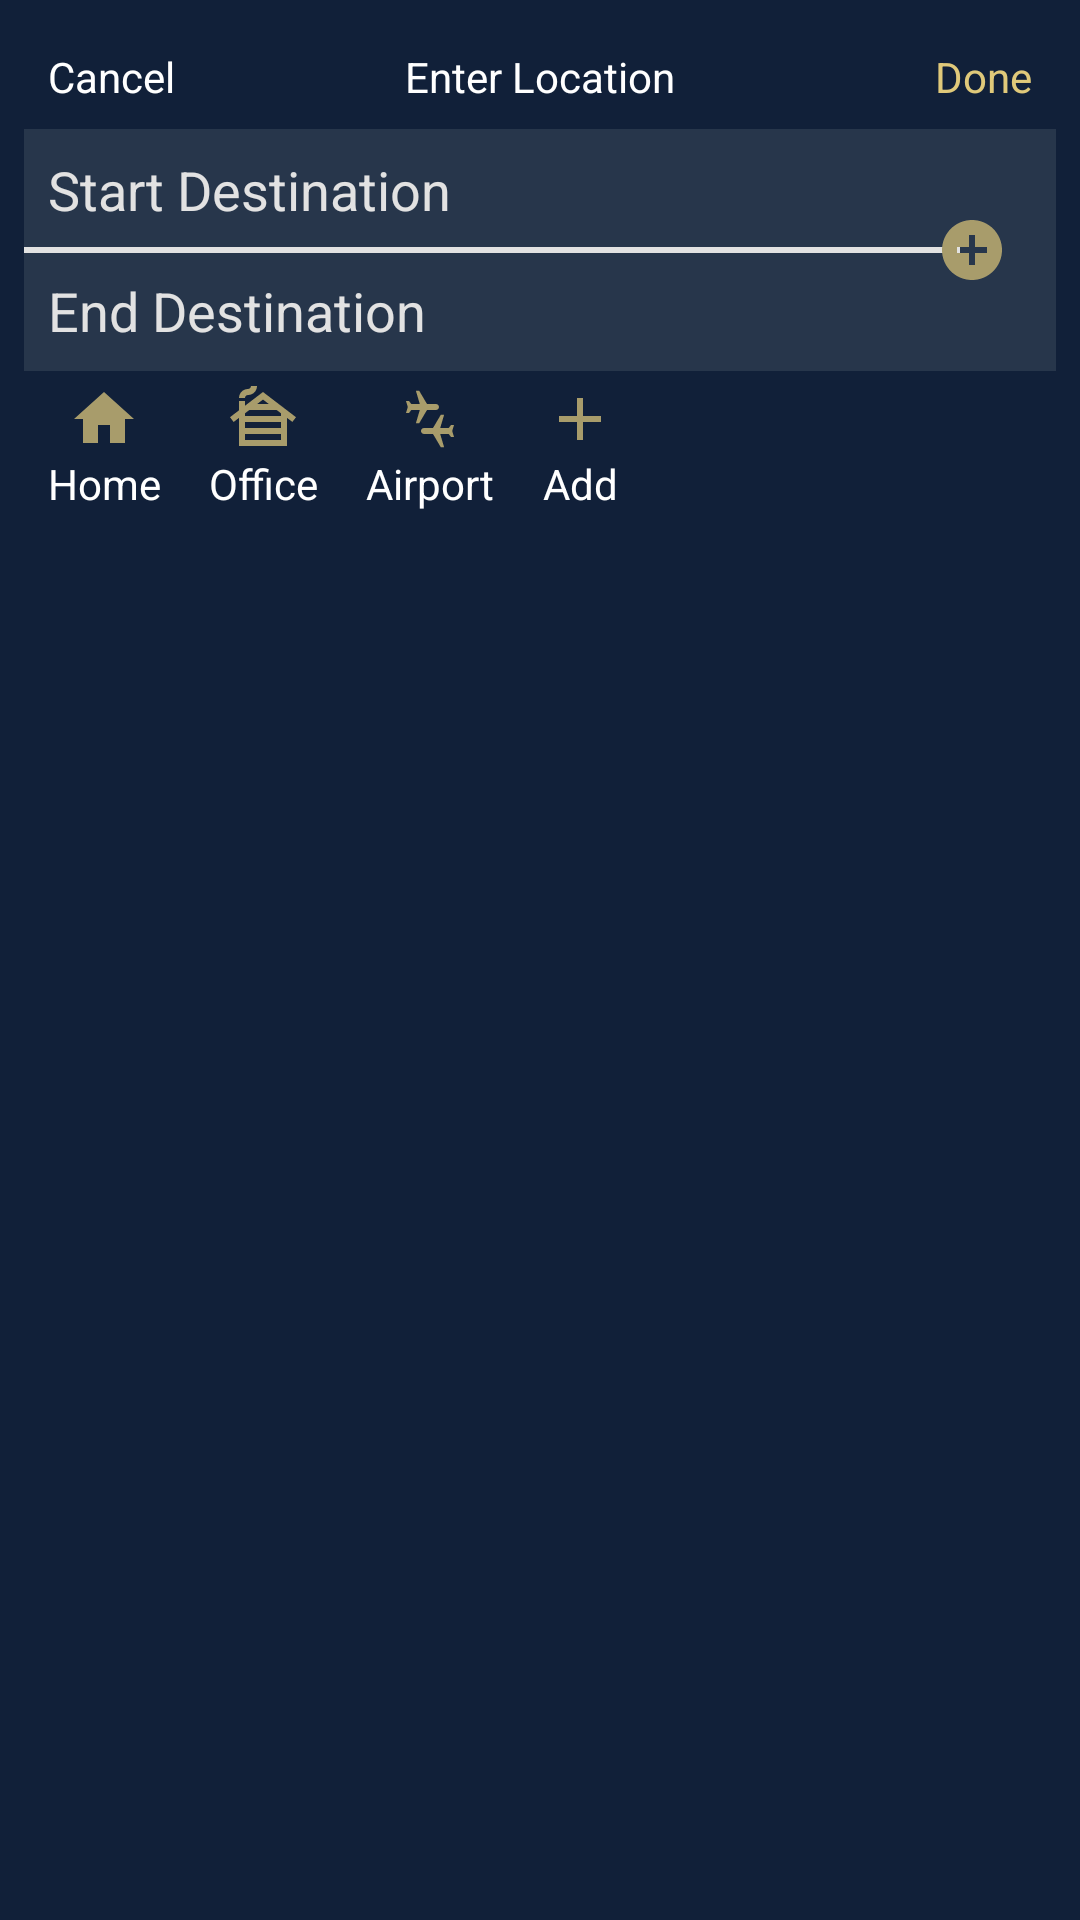

Point at icon controls on the screen. Image size 1080*1920, points as [x,y].
add circle: [969,250]
cabin: [263,416]
